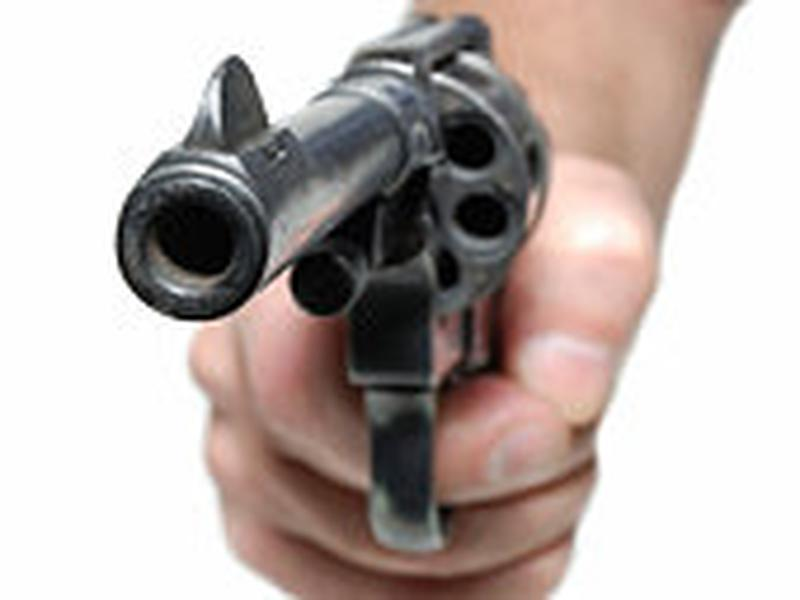Revolver: (117, 14, 572, 563)
